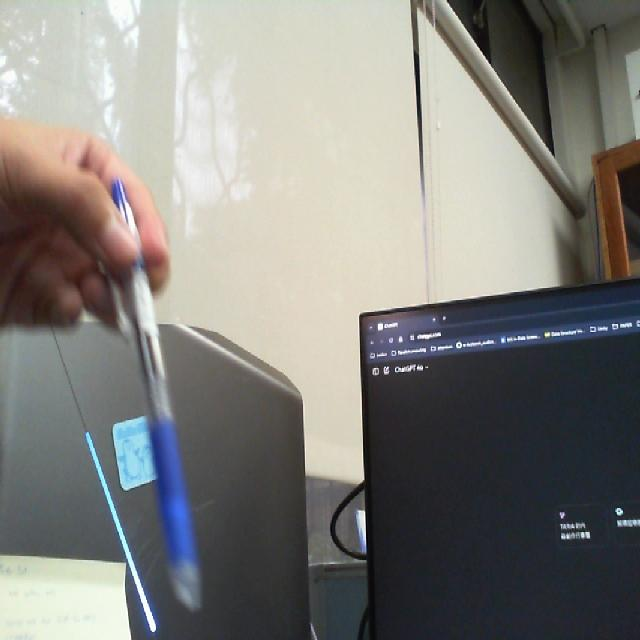Pen: (90, 170, 211, 620)
